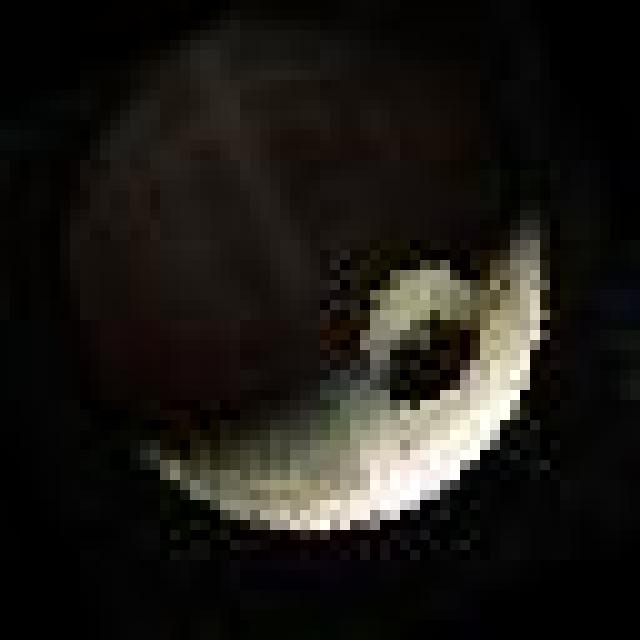Death Star: (67, 2, 586, 541)
